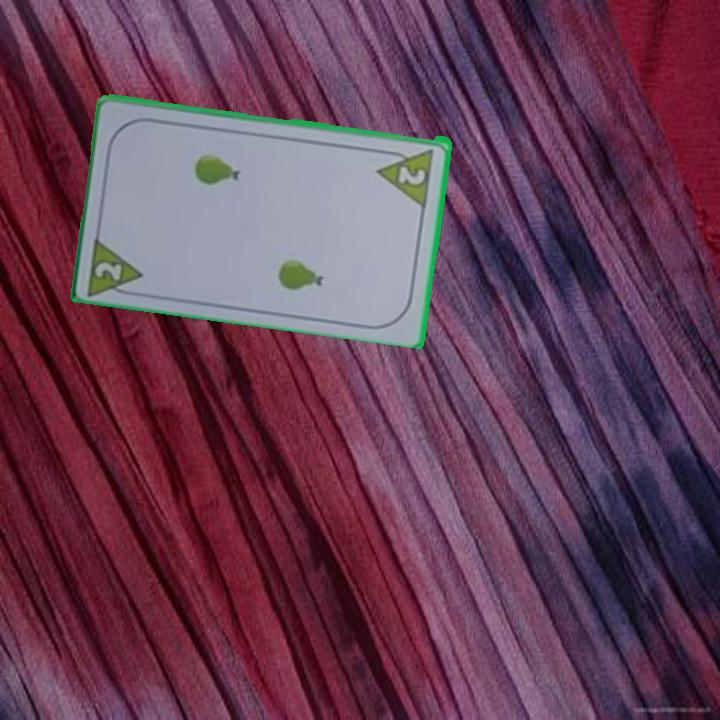2p: (395, 161, 429, 188), (91, 257, 126, 283)
